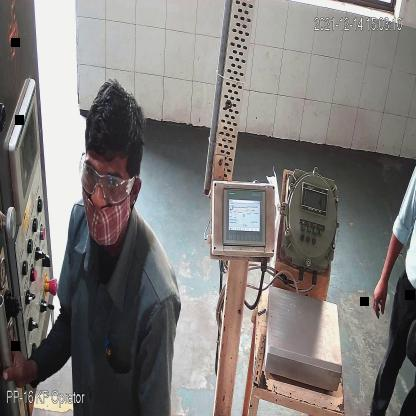goggles: (78, 162, 133, 206)
